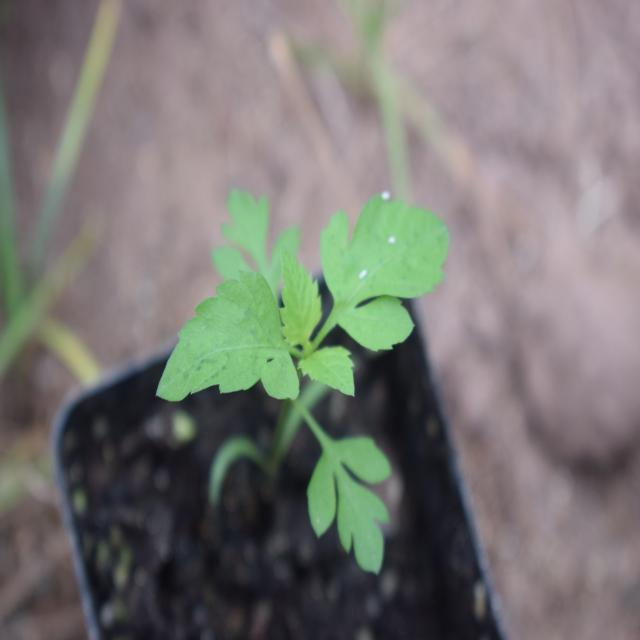Bidens pilosa: (154, 176, 448, 568)
